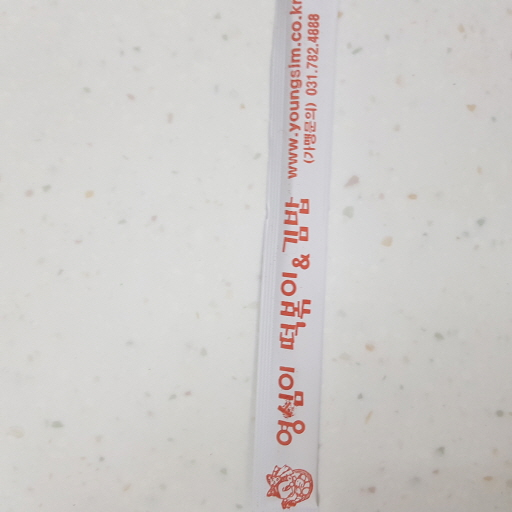Paper_2: (247, 2, 339, 512)
